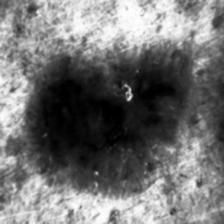Potentially Malignant Skin Tumors: (32, 66, 86, 140)
